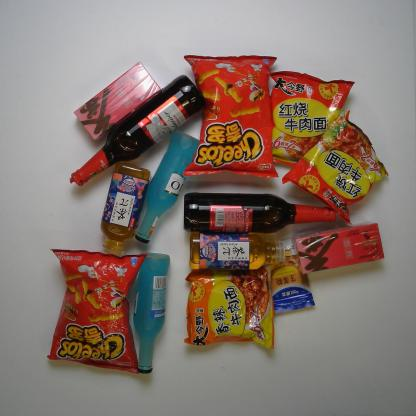Alcohol: (68, 73, 207, 187), (133, 128, 200, 245), (182, 191, 337, 237), (130, 252, 172, 376)
Drink: (98, 160, 151, 258), (188, 230, 286, 275)
Instant Drink: (73, 60, 162, 142), (292, 220, 386, 276)
Instant Noodles: (280, 109, 389, 225), (266, 70, 356, 166), (182, 270, 276, 350)
Puffed Food: (45, 248, 148, 376), (181, 54, 281, 180)
Seasoner: (265, 237, 316, 316)
